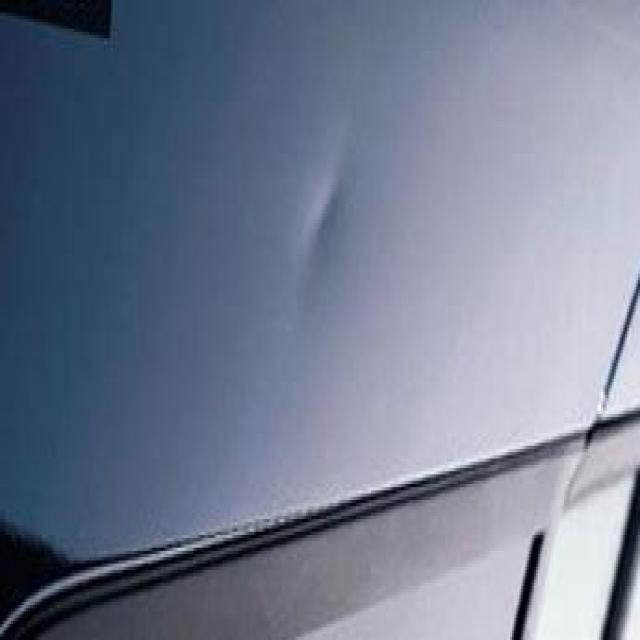dent: (288, 146, 368, 277)
